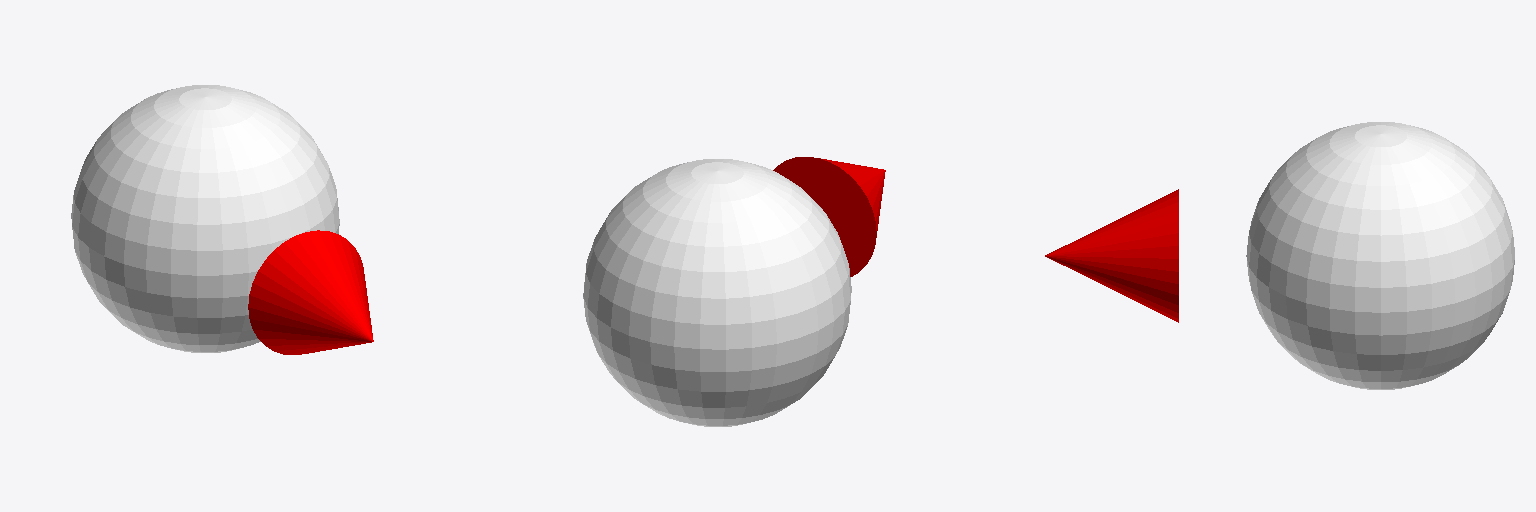
The picture shows the model from 3 angles: view 1: azimuth 30°, elevation 25°; view 2: azimuth 150°, elevation 25°; view 3: azimuth 270°, elevation 25°; orthographic projection.
Visible parts, largest first — view 1: 円錐; view 2: 円錐; view 3: 円錐.
Part boxes in pixels (left/top/right/bottom): 円錐: left=71, top=85, right=373, bottom=354; 円錐: left=583, top=157, right=885, bottom=426; 円錐: left=1045, top=122, right=1514, bottom=389.
Bounding box in the file's own units: 2 × 2 × 3.5.
Materials: 1 (1 with a texture image).